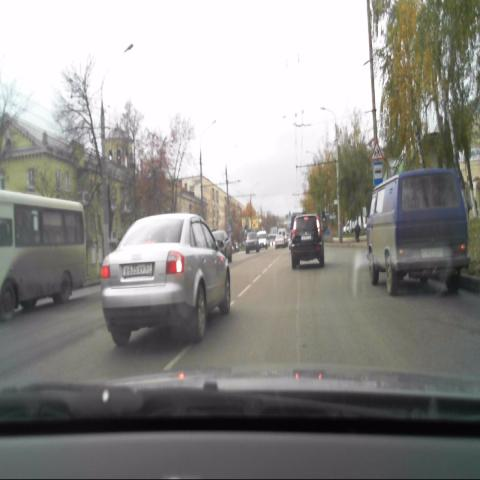5_16: (372, 162, 384, 187)
